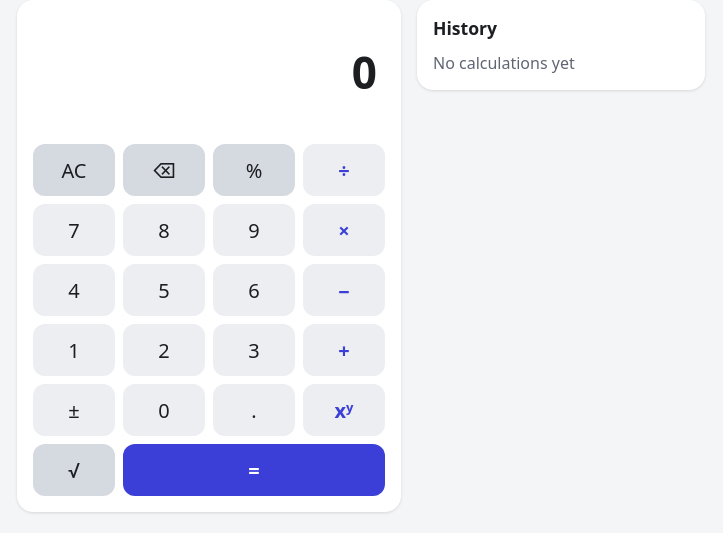
Test: Calculator › shows a backend error and clears it on the next key
The width and height of the screenshot is (723, 533).
Step 1. Click the button "1" → (74, 350), box [33,324,115,376]
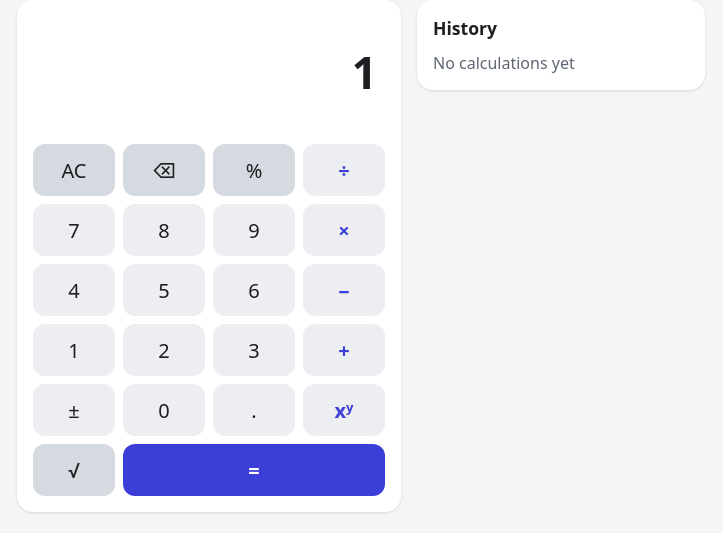
Step 2. Click the button "0" → (164, 410), box [123,384,205,436]
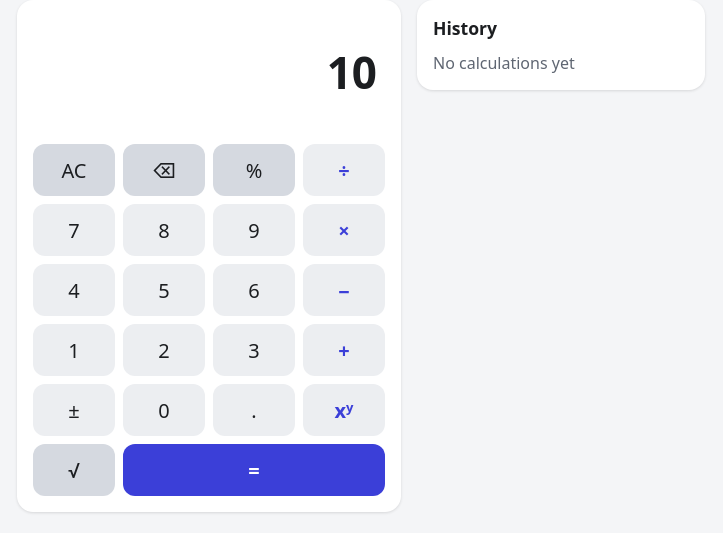
Step 3. Click the button named "divided by" → (344, 170), box [303,144,385,196]
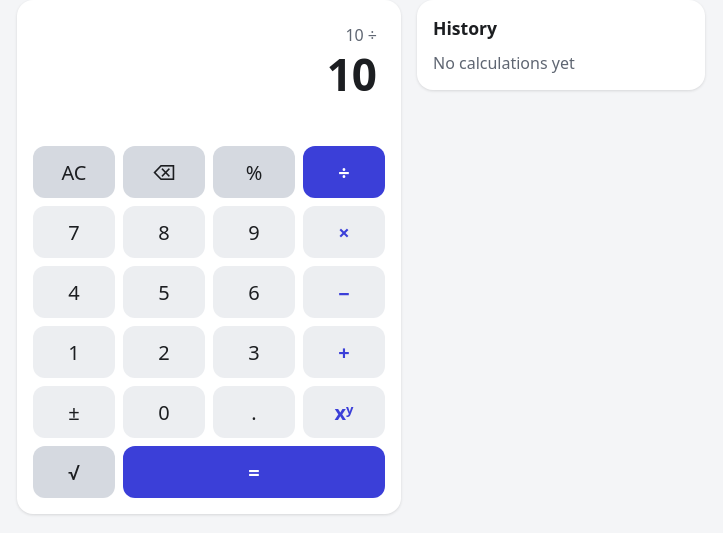
Step 4. Click the button "0" → (164, 412), box [123,386,205,438]
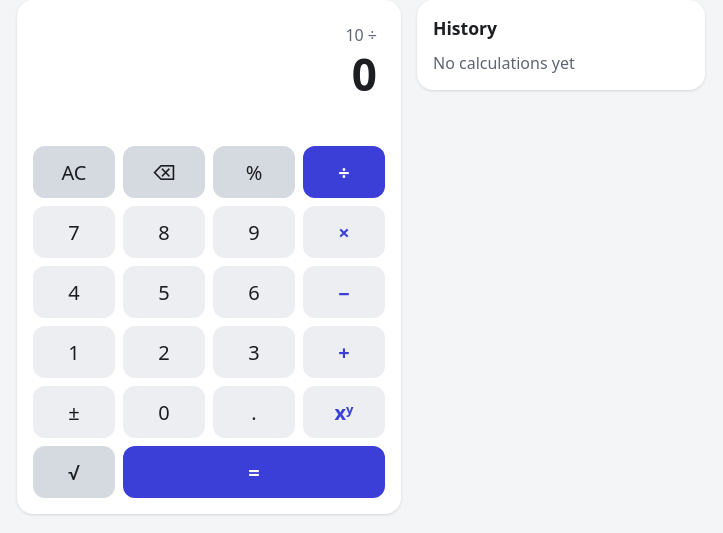
Step 5. Click the button named "equals" → (254, 472), box [123,446,385,498]
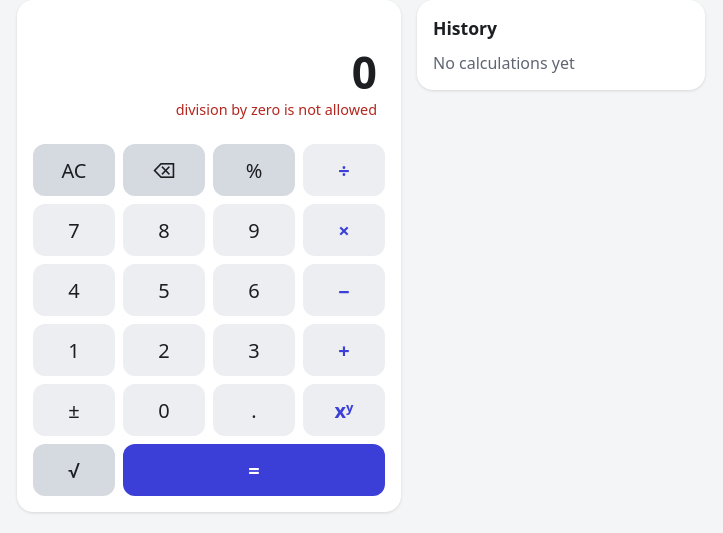
Result: the message reads "division by zero is not allowed" at [176,100,377,119]
Step 6. Click the button "7" → (74, 230), box [33,204,115,256]
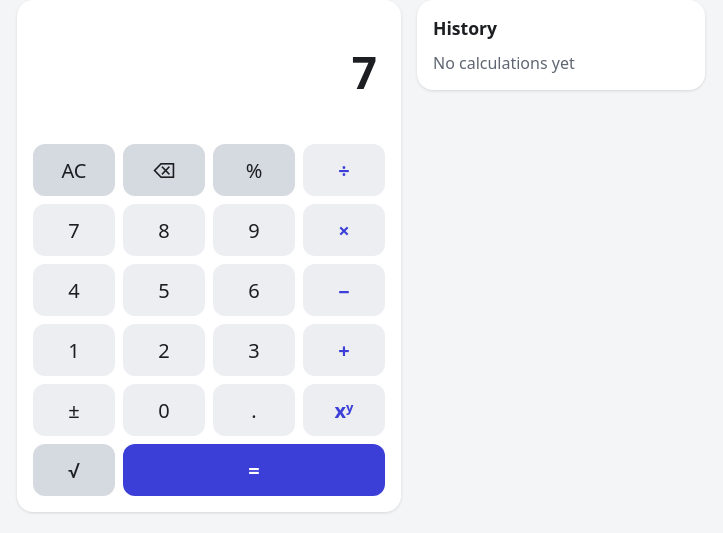
Result: the text "7" is shown at [352,48,377,96]
